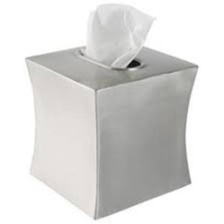plastic_box: (20, 36, 205, 223)
tissue: (79, 0, 163, 73)
